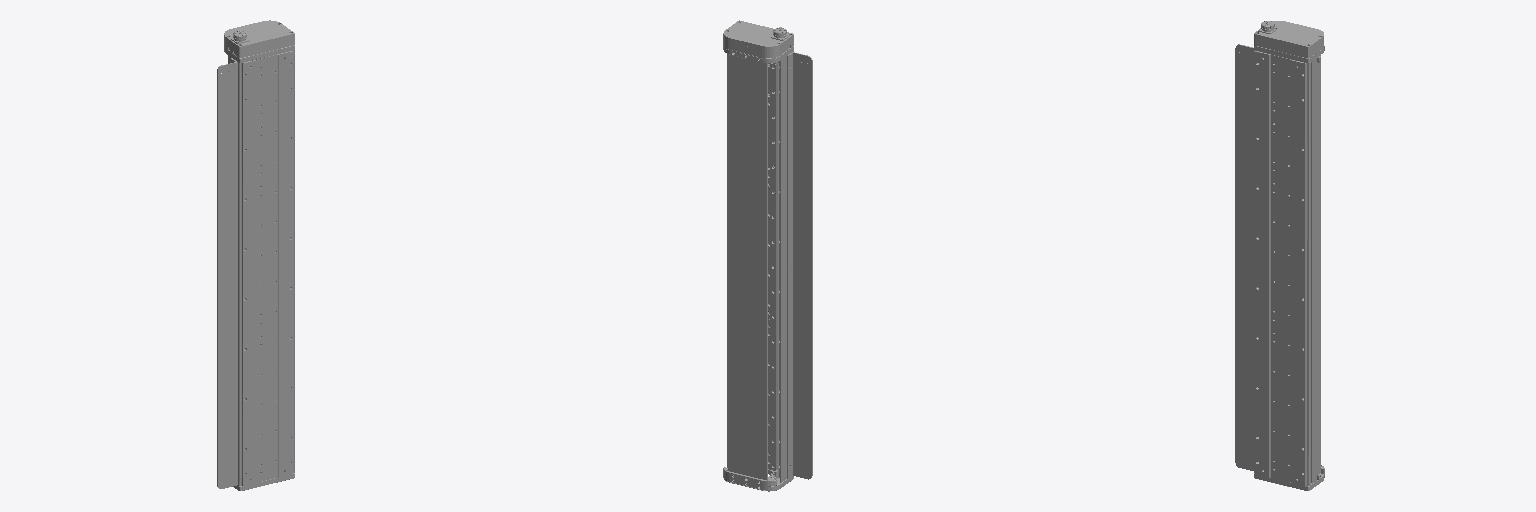
The robot description file, URDF, robot "URDF_motorLineal":
<?xml version="1.0" ?>
<!-- =================================================================================== -->
<!-- |    This document was autogenerated by xacro from URDF_motorLineal_backup.xacro  | -->
<!-- |    EDITING THIS FILE BY HAND IS NOT RECOMMENDED                                 | -->
<!-- =================================================================================== -->
<robot name="URDF_motorLineal">
  <material name="silver">
    <color rgba="0.700 0.700 0.700 1.000"/>
  </material>
  <transmission name="Component2_to_BaseLink_tran">
    <type>transmission_interface/SimpleTransmission</type>
    <joint name="Component2_to_BaseLink">
      <hardwareInterface>hardware_interface/EffortJointInterface</hardwareInterface>
    </joint>
    <actuator name="Component2_to_BaseLink_actr">
      <hardwareInterface>hardware_interface/EffortJointInterface</hardwareInterface>
      <mechanicalReduction>1</mechanicalReduction>
    </actuator>
  </transmission>
  <gazebo>
    <plugin filename="libgazebo_ros_control.so" name="control"/>
  </gazebo>
  <gazebo reference="base_link">
    <material>Gazebo/Silver</material>
    <mu1>0.2</mu1>
    <mu2>0.2</mu2>
    <self_collide>true</self_collide>
    <gravity>true</gravity>
  </gazebo>
  <gazebo reference="Component2_1">
    <material>Gazebo/Silver</material>
    <mu1>0.2</mu1>
    <mu2>0.2</mu2>
    <self_collide>true</self_collide>
  </gazebo>
  <link name="base_link">
    <inertial>
      <origin rpy="0 0 0" xyz="-0.04243186753963084 -0.013622792410979405 0.03971735093802979"/>
      <mass value="34.83097257284144"/>
      <inertia ixx="3.922908" ixy="-0.00195" ixz="-0.003231" iyy="3.980435" iyz="-0.02419" izz="0.09517"/>
    </inertial>
    <visual>
      <origin rpy="0 0 0" xyz="0 0 0"/>
      <geometry>
        <mesh filename="./meshes/base_link.stl" scale="0.001 0.001 0.001"/>
      </geometry>
      <material name="silver"/>
    </visual>
    <collision>
      <origin rpy="0 0 0" xyz="0 0 0"/>
      <geometry>
        <mesh filename="./meshes/base_link.stl" scale="0.001 0.001 0.001"/>
      </geometry>
    </collision>
  </link>
  <link name="Component2_1">
    <inertial>
      <origin rpy="0 0 0" xyz="-0.00012107552468418326 -0.025713445819300518 -0.006981451969030942"/>
      <mass value="9.320421178663263"/>
      <inertia ixx="0.026638" ixy="0.000683" ixz="-0.000294" iyy="0.040796" iyz="-0.001512" izz="0.023982"/>
    </inertial>
    <visual>
      <origin rpy="0 0 0" xyz="0.038243 -0.046696 -0.0075"/>
      <geometry>
        <mesh filename="./meshes/Component2_1.stl" scale="0.001 0.001 0.001"/>
      </geometry>
      <material name="silver"/>
    </visual>
    <collision>
      <origin rpy="0 0 0" xyz="0.038243 -0.046696 -0.0075"/>
      <geometry>
        <mesh filename="./meshes/Component2_1.stl" scale="0.001 0.001 0.001"/>
      </geometry>
    </collision>
  </link>
  <joint name="Component2_to_BaseLink" type="prismatic">
    <origin rpy="0 0 0" xyz="-0.038243 0.046696 0.0075"/>
    <parent link="base_link"/>
    <child link="Component2_1"/>
    <axis xyz="0.0 0.0 -1.0"/>
    <limit effort="100" lower="-0.35" upper="0.35" velocity="100"/>
  </joint>
</robot>

--- Render facts (derived) ---
3 views of the same robot in one strip: view 1: azimuth 30°, elevation 25°; view 2: azimuth 150°, elevation 25°; view 3: azimuth 330°, elevation 25° (orthographic).
Model URDF_motorLineal with 2 links and 1 joints (1 prismatic), rooted at base_link, posed every joint at zero.
Links seen in each view (by area): view 1: base_link; view 2: base_link; view 3: base_link.
Boxes of the visible links, x1,y1,x2,y2 form: base_link: (217,20,294,490); base_link: (723,20,812,491); base_link: (1235,21,1324,490).
Size in the robot's own frame: 0.1924 by 0.0935 by 1.09 metres.
1 mesh visuals loaded from 2 distinct referenced files (1 binary STL); not drawn: 1 (reference not matched to a file when rendering).
